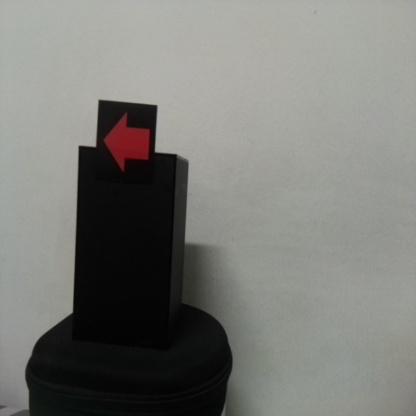id_4: (97, 102, 156, 182)
